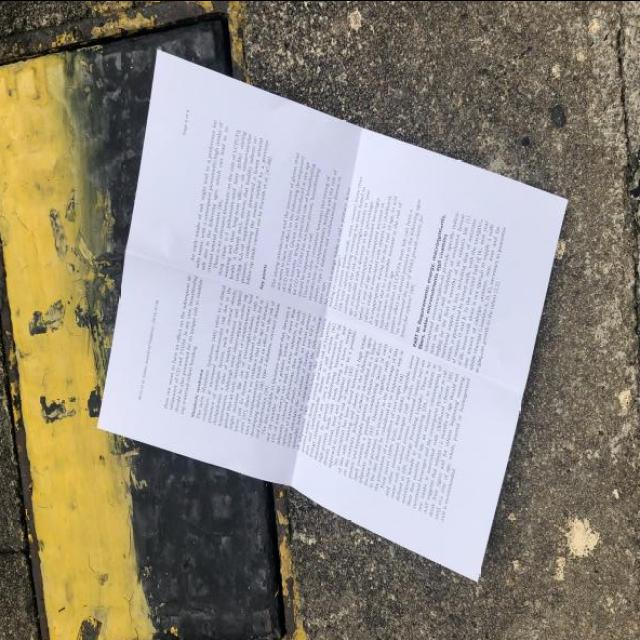kertas: (25, 49, 611, 580)
